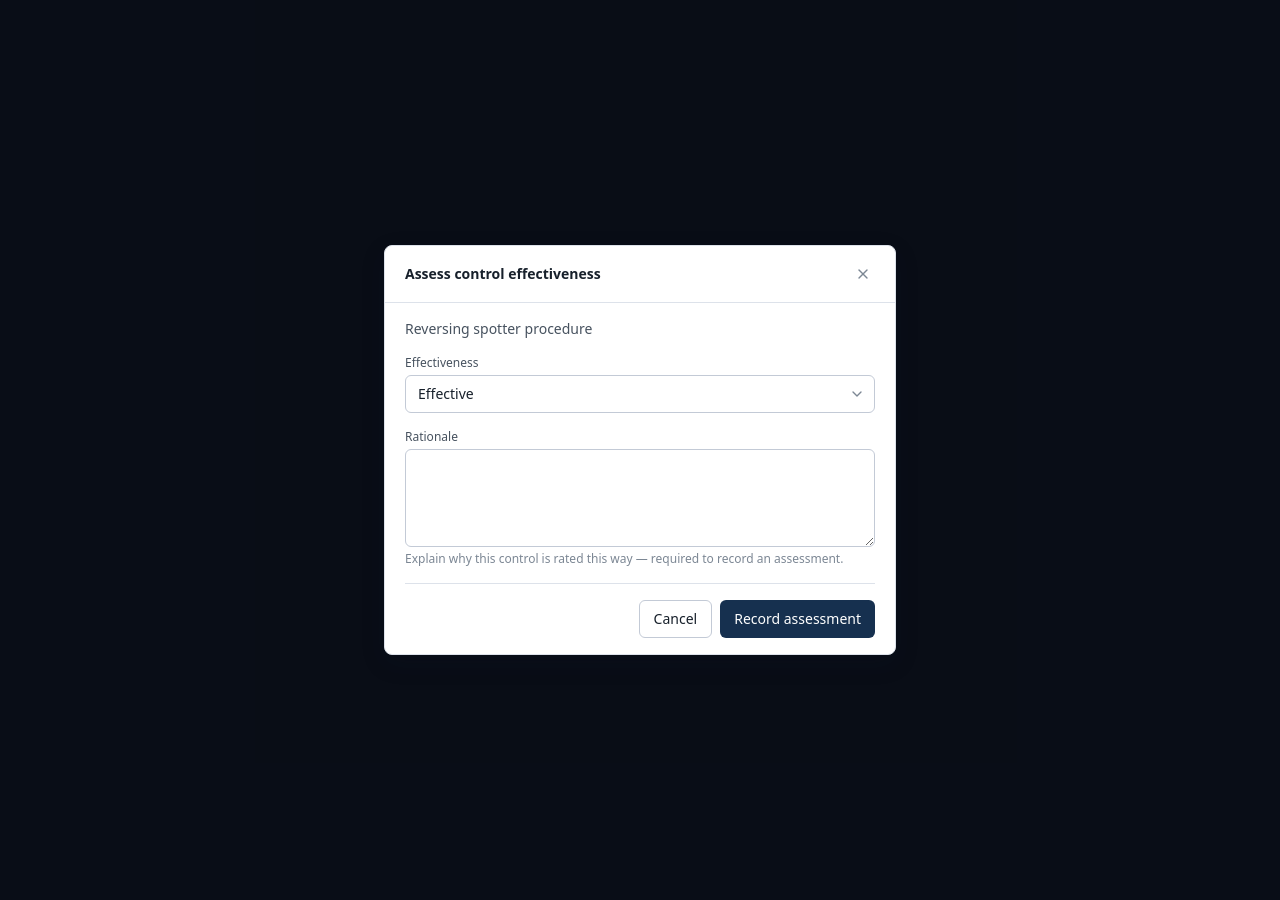
ControlEffectivenessDialog › on failure, preserves the entered rationale and shows an actionable error — never fabricates success
Type "Spotter present on every shift." into the text box labelled "Rationale" at (640, 498), box [405,449,875,547]
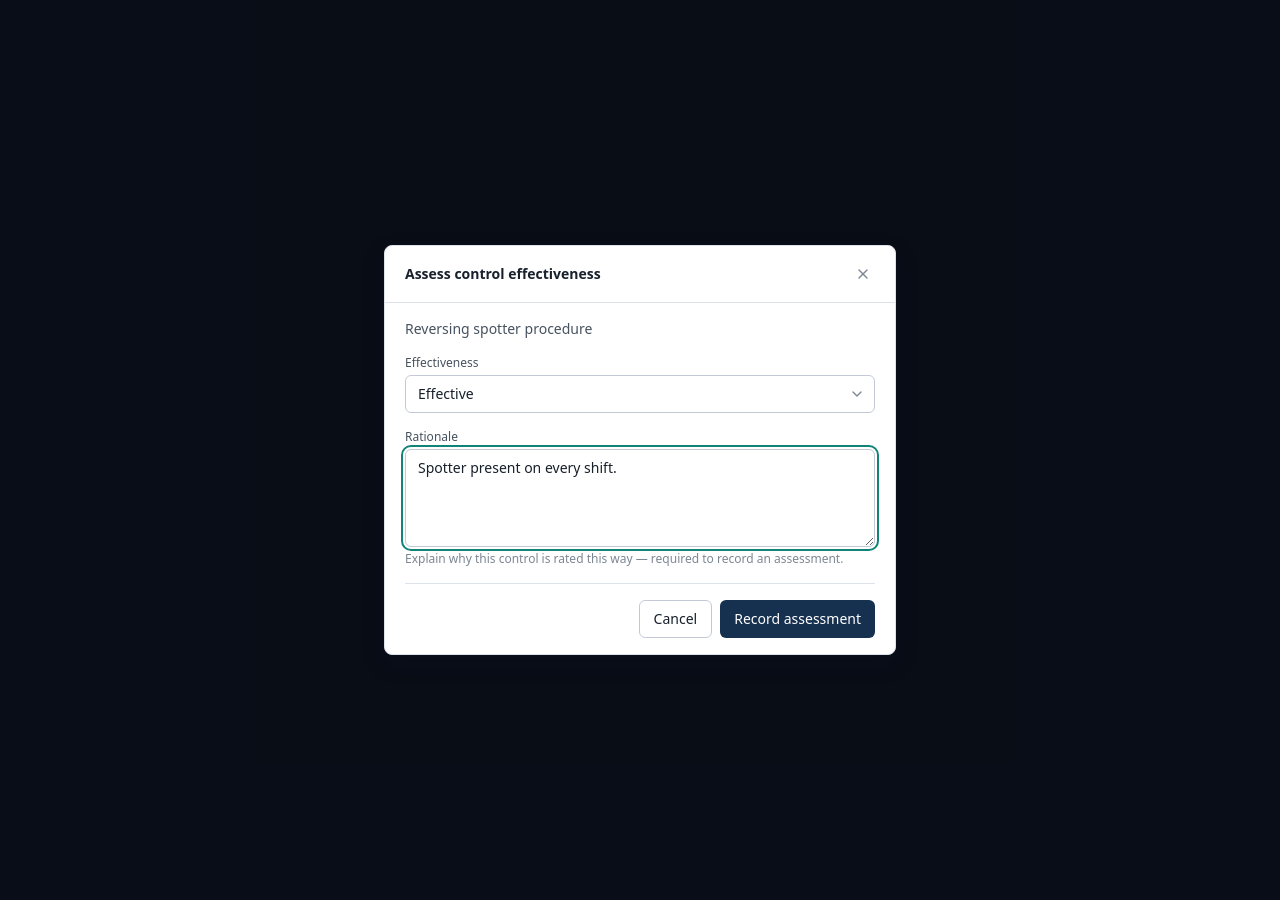
Click the button "Record assessment" at (798, 619), box [720,600,875,638]
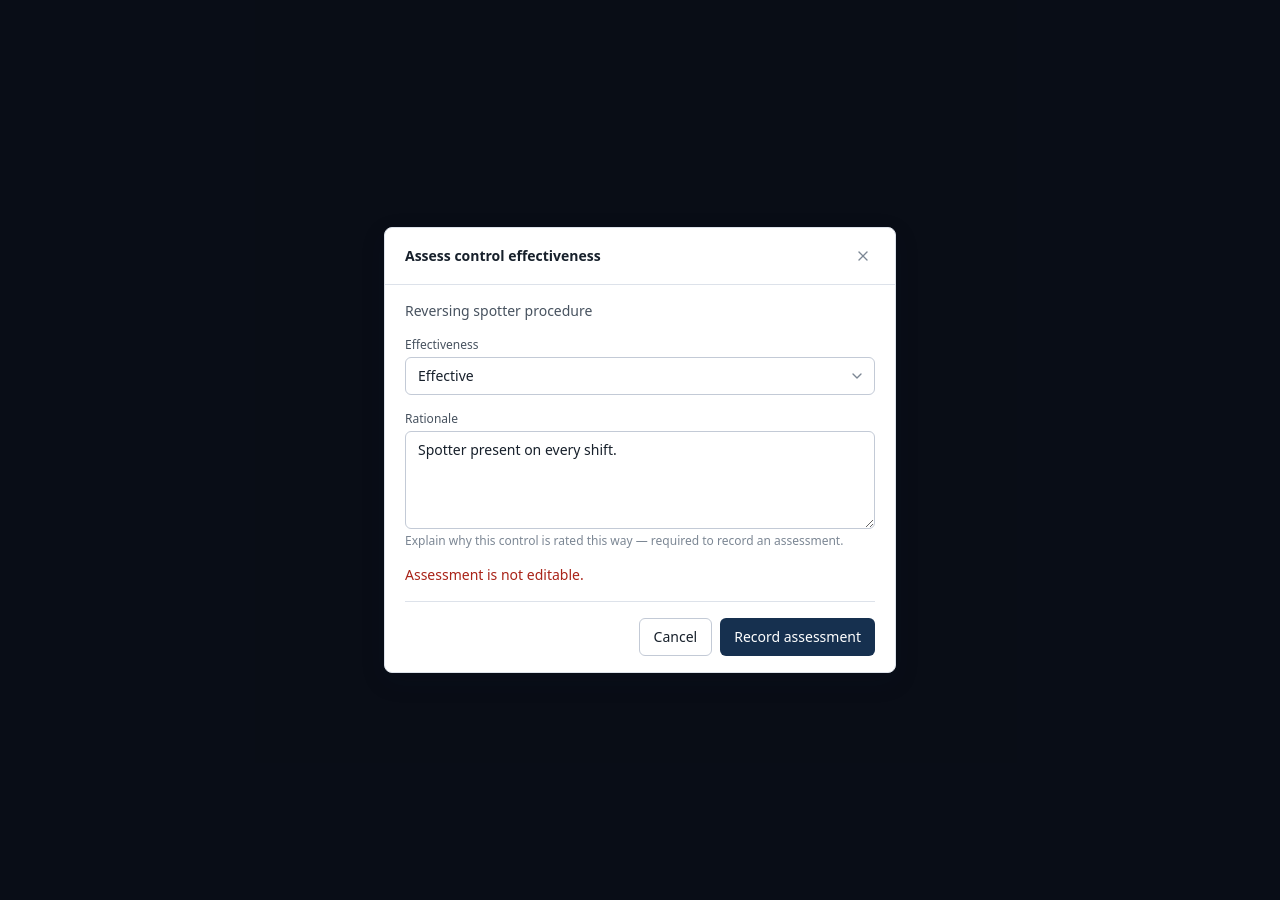
Now the message reads "Assessment is not editable.", box [405,565,584,584]
